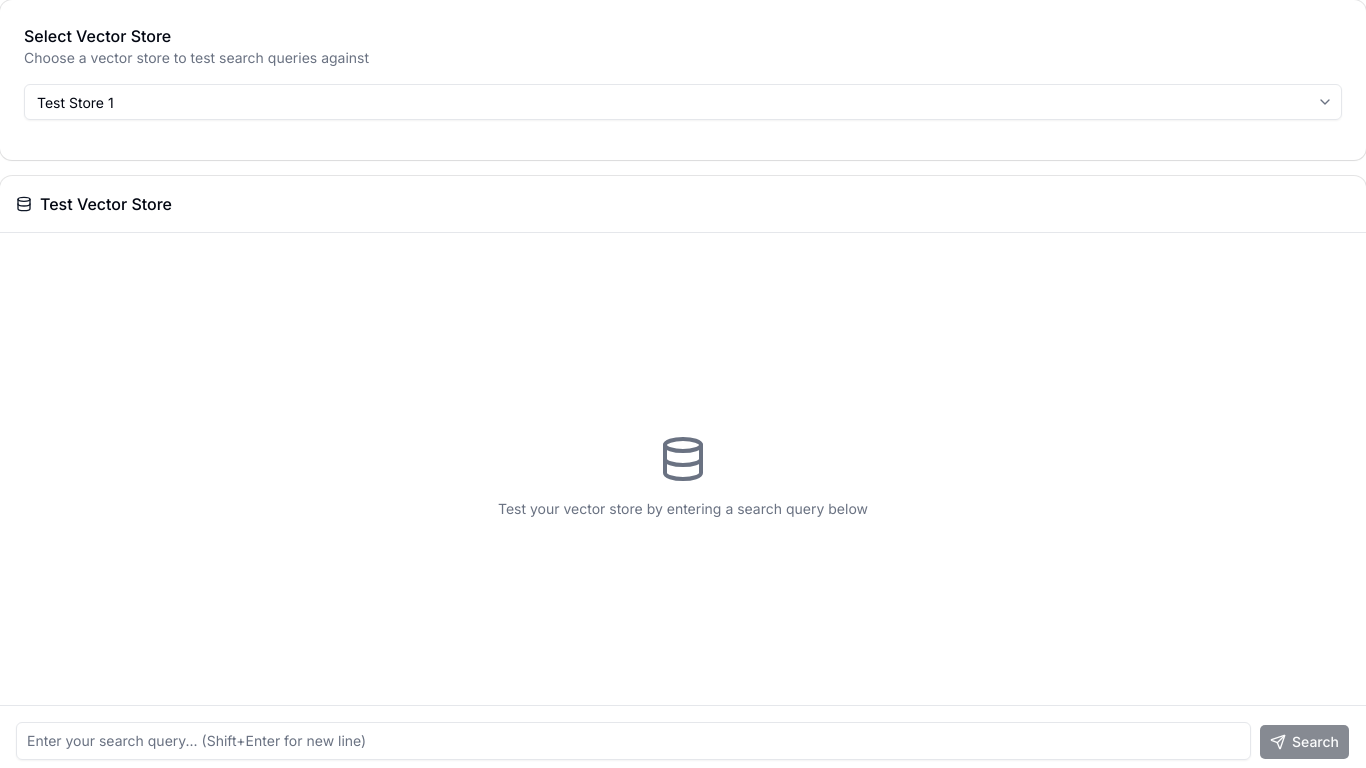
Test: TestVectorStoreTab › should display vector store names in select options
The width and height of the screenshot is (1366, 768).
Click the dropdown at coordinates (669, 102), box top-left (25, 84), bottom-right (1313, 120)
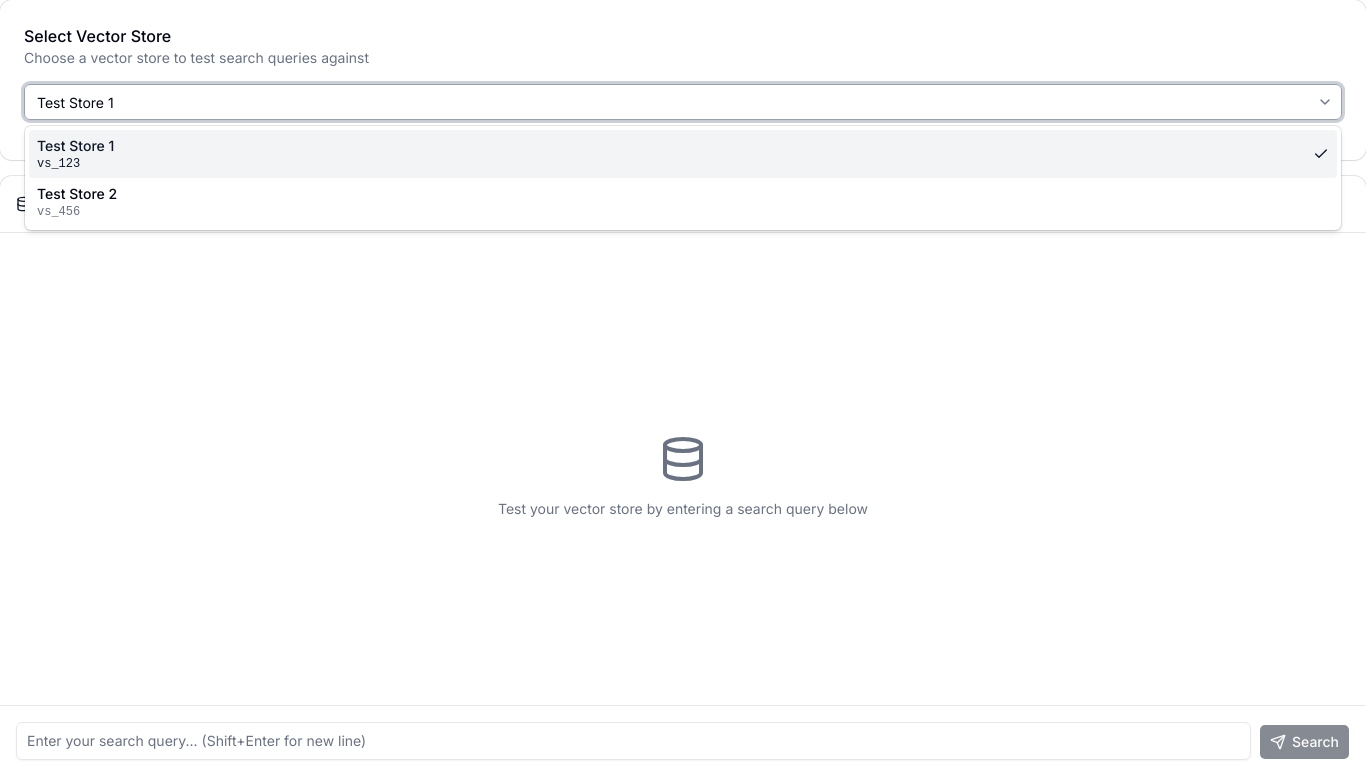
Now the text "Test Store 1" is shown, box top-left (37, 136), bottom-right (114, 156)
Now the text "Test Store 2" is shown, box top-left (37, 184), bottom-right (117, 204)
